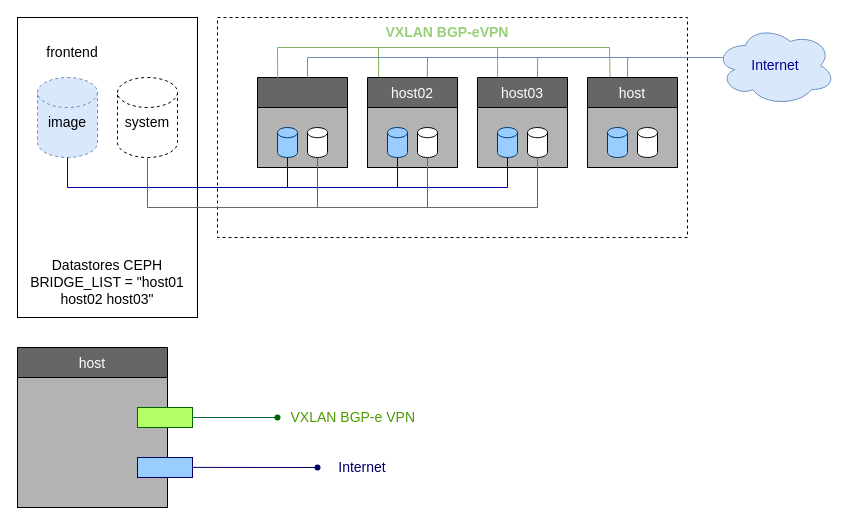
The diagram is 853 pixels wide and 525 high, and some of its shapes have lost their labels. Each missing label, with the centre of its shape:
eth0: pixel 164 417
eth1: pixel 164 467
host01: pixel 302 122
